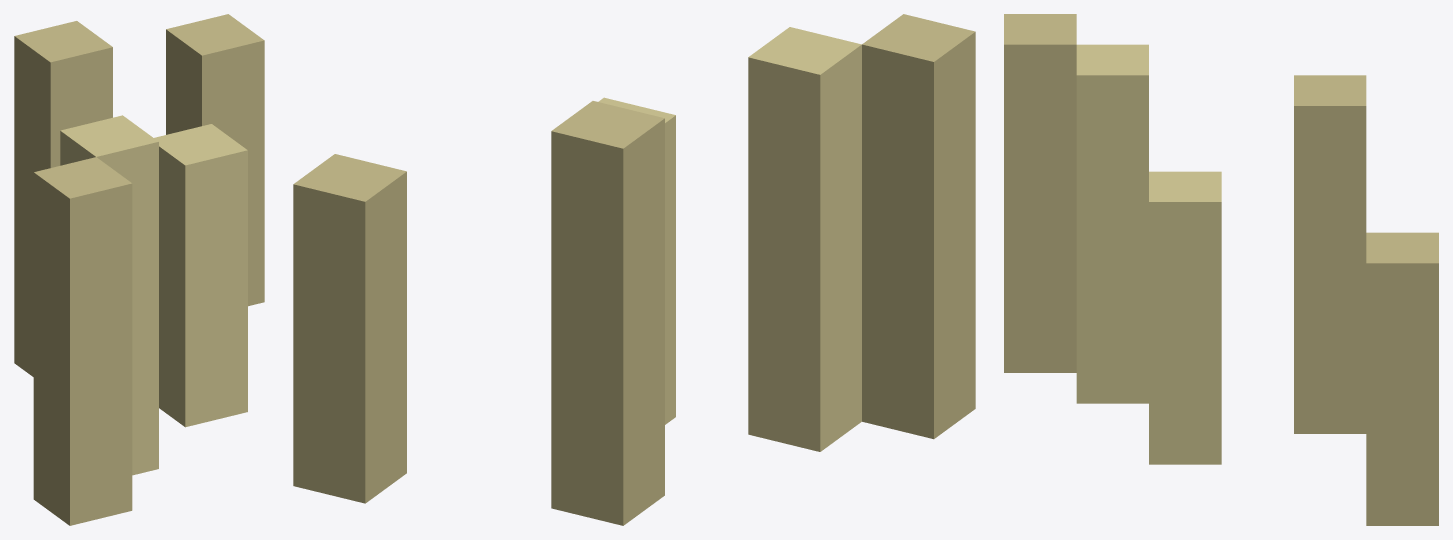
Rendered from trigo_silvestre_01.glb.
The picture shows the model from 3 angles, left to right: view 1: azimuth 30°, elevation 25°; view 2: azimuth 150°, elevation 25°; view 3: azimuth 270°, elevation 25°; orthographic projection. The views are drawn at different scales.
Visible parts, largest first — view 1: trigo_silvestre_01; view 2: trigo_silvestre_01; view 3: trigo_silvestre_01.
Part boxes in pixels (box(x1,y1,x2,y2)): trigo_silvestre_01: box(14, 14, 264, 525); trigo_silvestre_01: box(293, 14, 975, 525); trigo_silvestre_01: box(1004, 14, 1438, 525).
Size of the model in its own units: 0.6 by 0.5 by 0.6.
